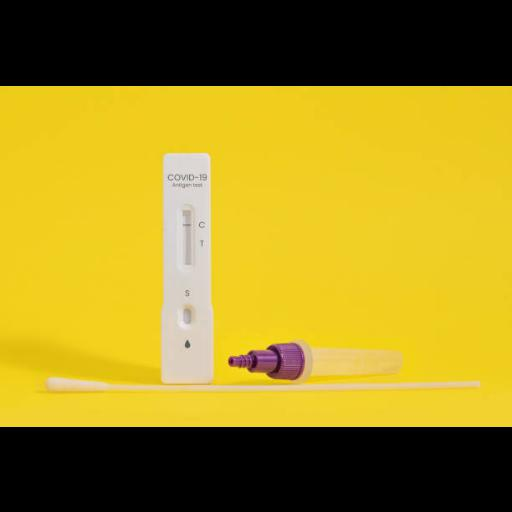Neg: (163, 152, 211, 380)
